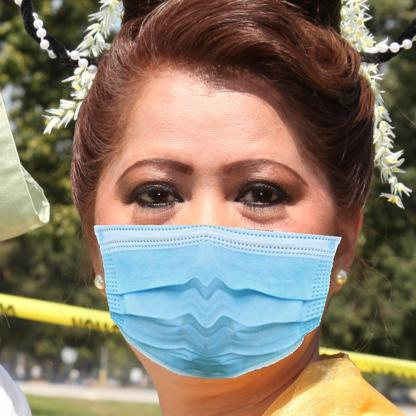mask: (88, 221, 337, 380)
